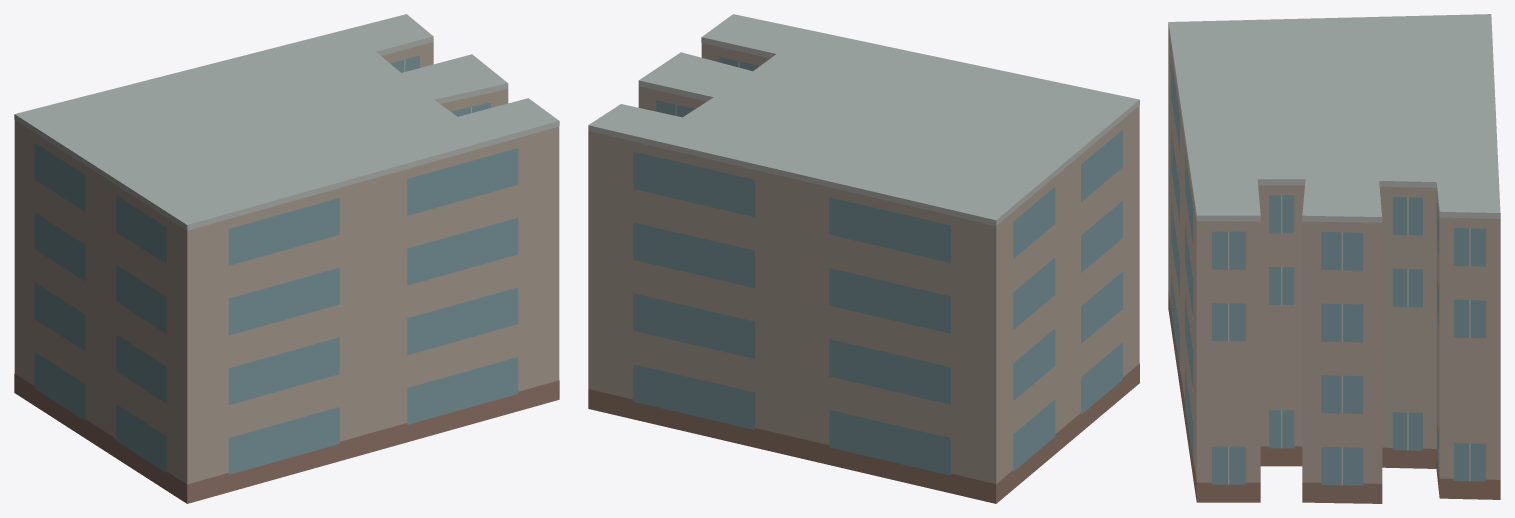
The model's file is survey-upis-32524684.glb.
3 renders of one model, left to right at view 1: azimuth 30°, elevation 25°; view 2: azimuth 150°, elevation 25°; view 3: azimuth 270°, elevation 25°, orthographic. The views are drawn at different scales.
Visible parts, largest first — view 1: survey-upis-32524684.tmp; view 2: survey-upis-32524684.tmp; view 3: survey-upis-32524684.tmp.
Part boxes in pixels (x1=…): survey-upis-32524684.tmp: x1=14, y1=14, x2=559, y2=503; survey-upis-32524684.tmp: x1=588, y1=14, x2=1139, y2=503; survey-upis-32524684.tmp: x1=1168, y1=14, x2=1500, y2=503.
Size of the model in its own units: 18.39 by 12.1 by 12.71.
